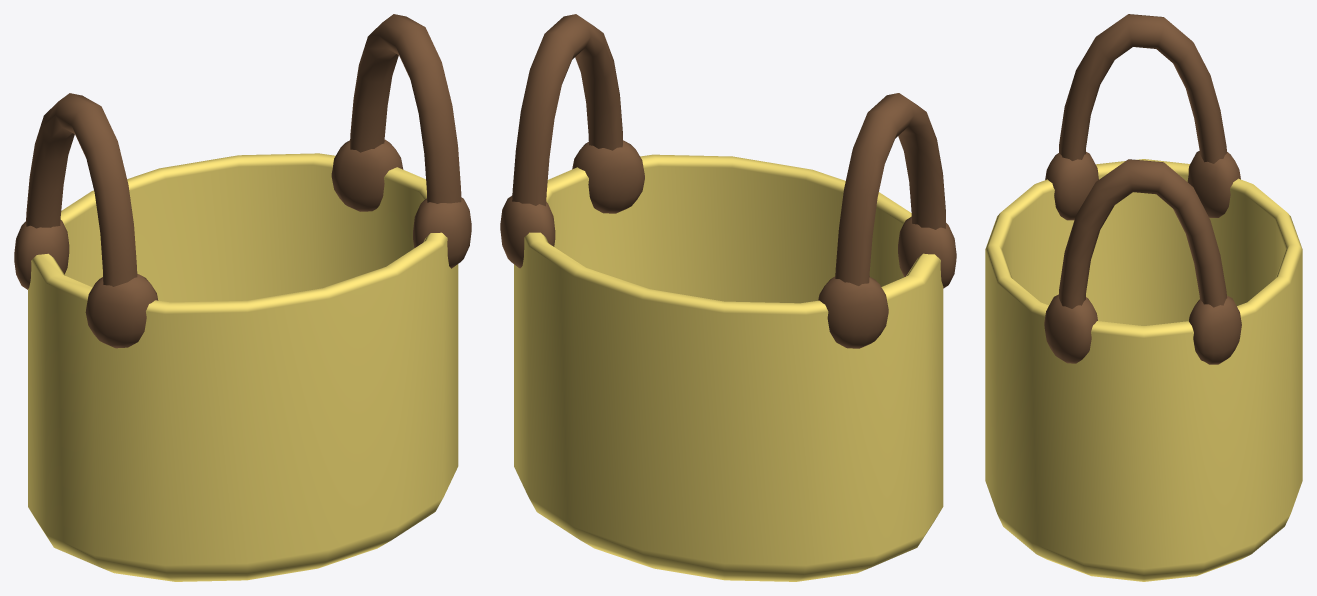
Rendered from Basket_1.glb.
3 renders of one model, left to right at view 1: azimuth 30°, elevation 25°; view 2: azimuth 150°, elevation 25°; view 3: azimuth 270°, elevation 25°, orthographic. The views are drawn at different scales.
Visible parts, largest first — view 1: Basket_1; view 2: Basket_1; view 3: Basket_1.
Part boxes in pixels (x1,y1,x2,y2): Basket_1: (14,14,471,581); Basket_1: (500,14,956,581); Basket_1: (985,14,1302,581).
Size of the model in its own units: 0.4952 by 0.5466 by 0.3762.
1 material, 1 textured.
